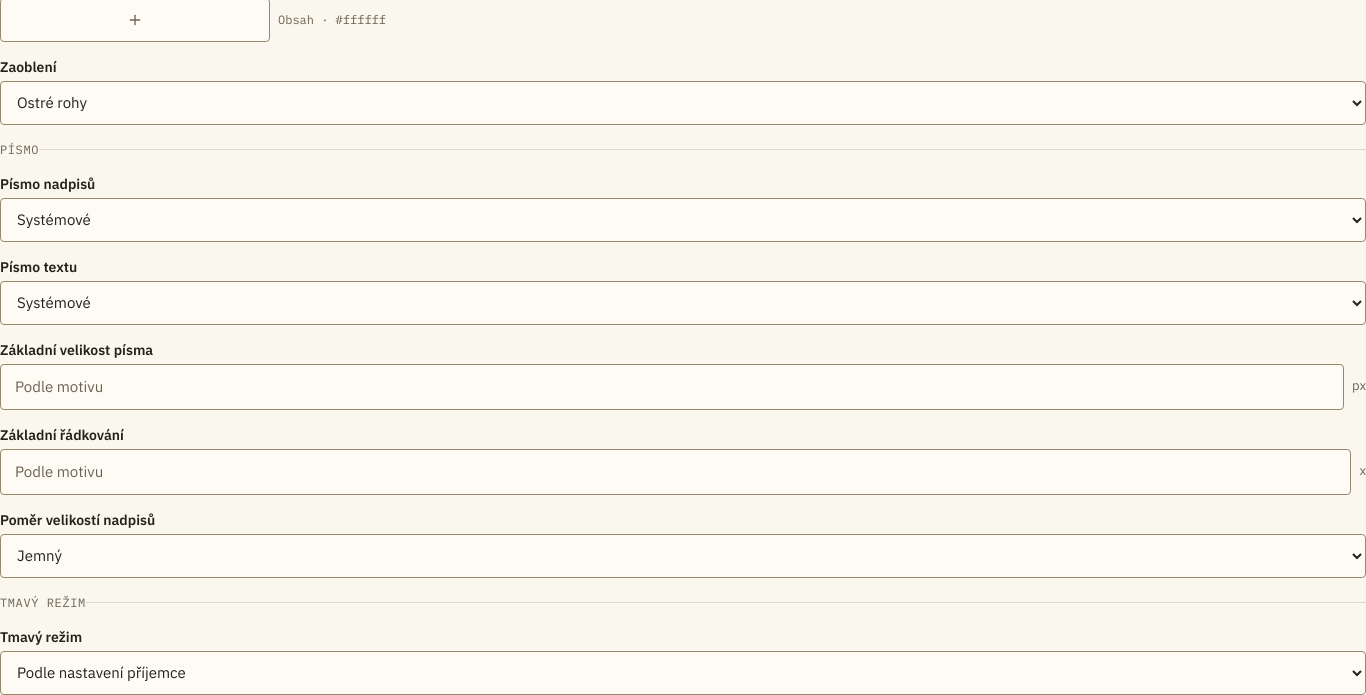
ThemePanel › plochy tmavého režimu se nabízejí jen u zapnutého tmavého režimu
The width and height of the screenshot is (1366, 695).
(page scrolled)
Select "Podle nastavení příjemce" in the dropdown labelled "Tmavý režim": (683, 673) 0,651 -> 1365,694
(page scrolled)
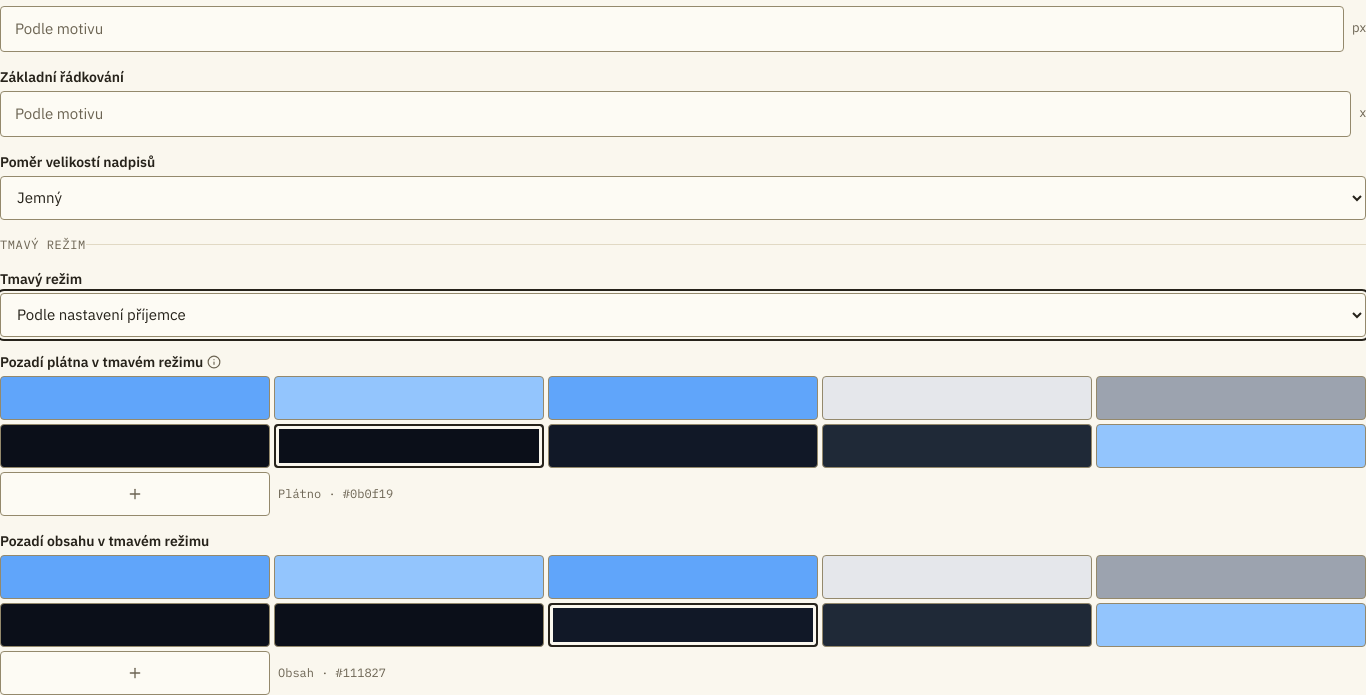
Expected: the element with test id "color-palette-dark:surface.canvas" is shown, 0,376 -> 1365,516
Expected: the element with test id "color-palette-dark:surface.content" is shown, 0,555 -> 1365,694
